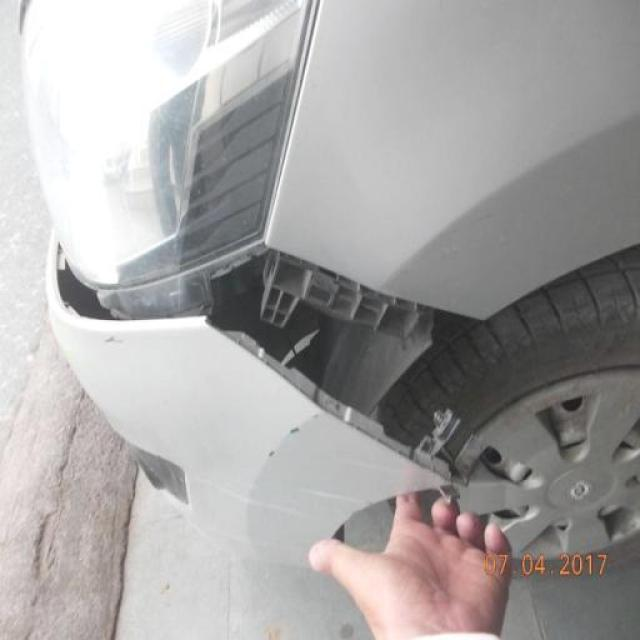Car-Damage: (54, 244, 491, 485), (194, 468, 309, 523), (199, 516, 311, 554), (263, 409, 325, 468), (293, 476, 363, 508), (338, 452, 398, 478), (91, 335, 129, 349)
